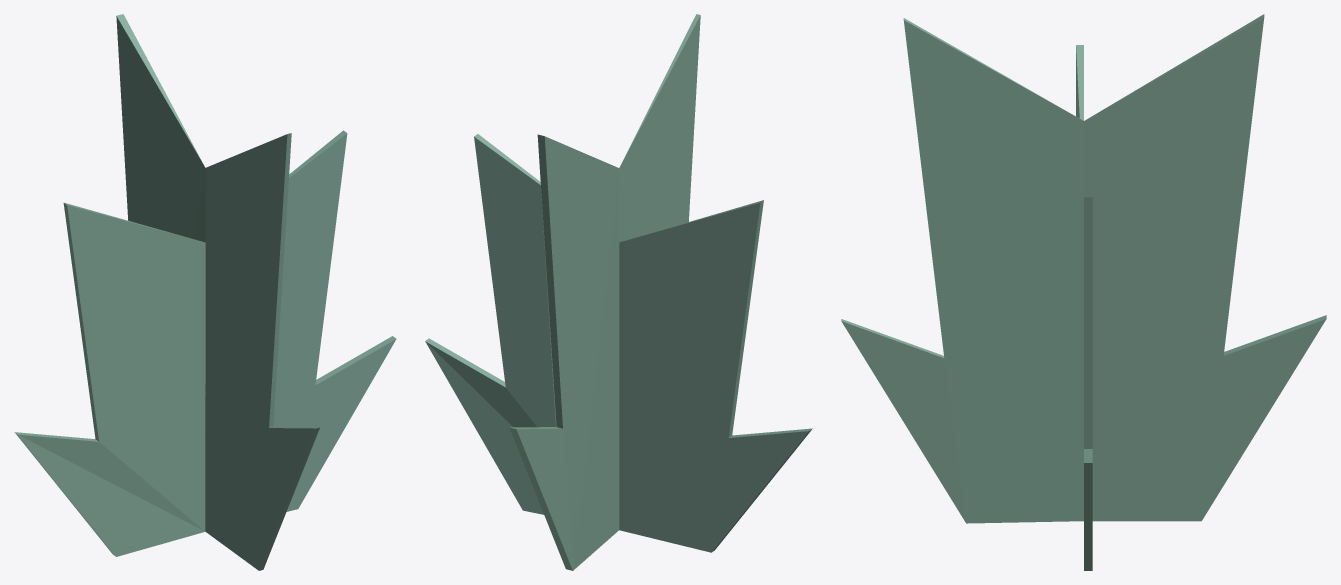
The model's file is Nature GrassBush 2.fbx.
3 views of the same model, side by side, from view 1: azimuth 30°, elevation 25°; view 2: azimuth 150°, elevation 25°; view 3: azimuth 270°, elevation 25° (orthographic). The views are drawn at different scales.
Parts seen in each view (by area): view 1: Nature GrassBush 2; view 2: Nature GrassBush 2; view 3: Nature GrassBush 2.
Boxes of the visible parts, <box> form: Nature GrassBush 2: <box>14,14,396,570</box>; Nature GrassBush 2: <box>425,14,812,570</box>; Nature GrassBush 2: <box>841,14,1326,570</box>.
Bounding box in the file's own units: 56.91 × 65.12 × 56.92.
